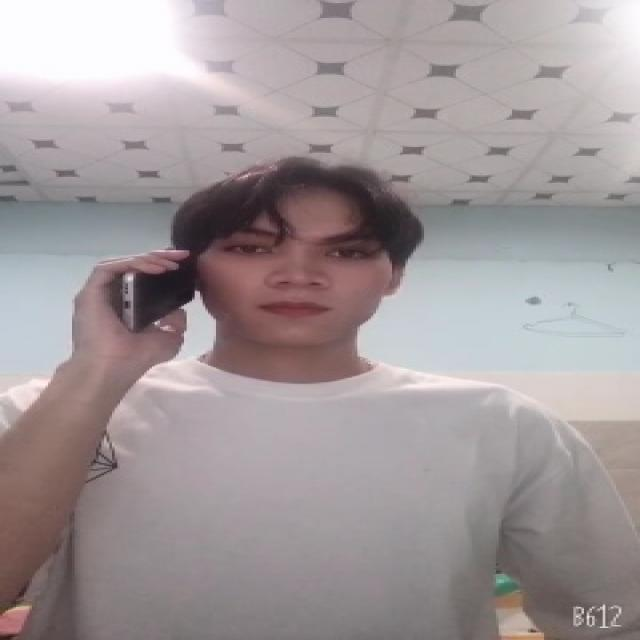Phone: (114, 249, 208, 336)
